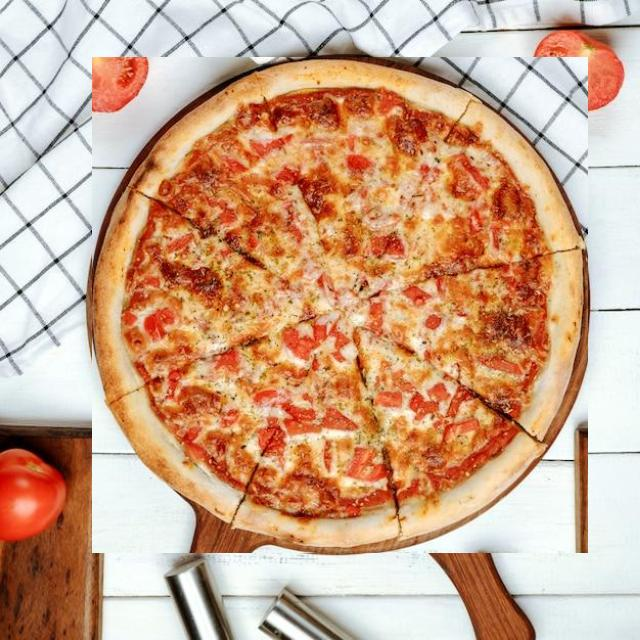pizza: (92, 57, 588, 553)
